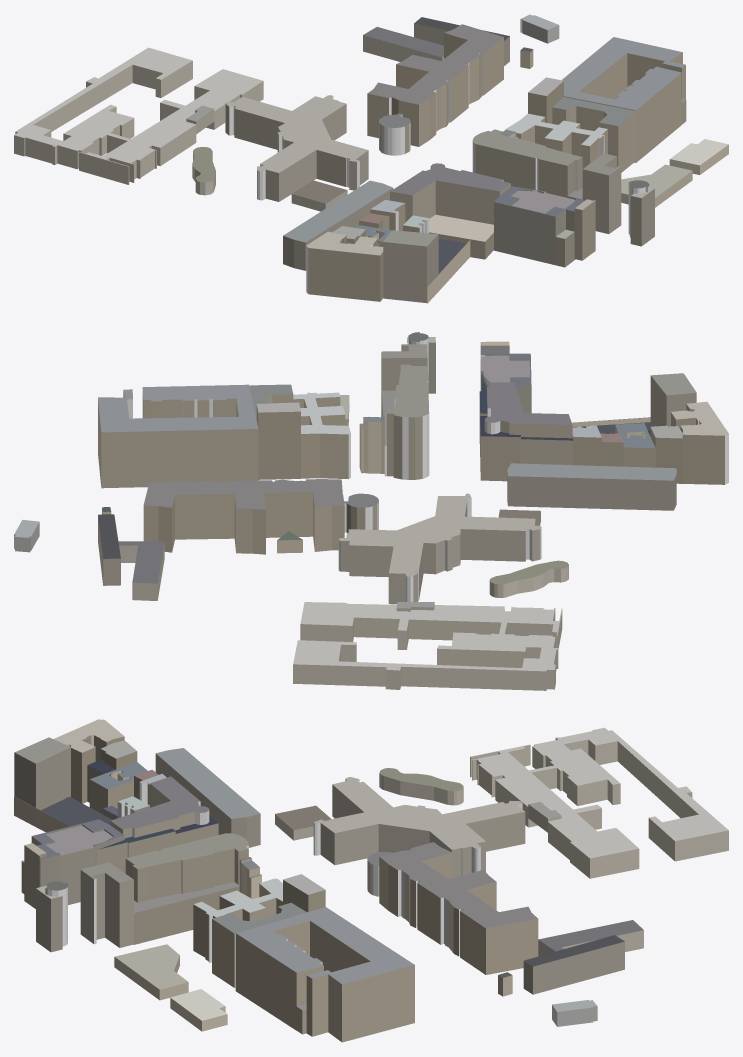
3 views of the same model, one above another, from view 1: azimuth 30°, elevation 25°; view 2: azimuth 150°, elevation 25°; view 3: azimuth 270°, elevation 25° (orthographic). The views are drawn at different scales.
Visible parts, largest first — view 1: tuile; view 2: tuile; view 3: tuile.
Boxes of the visible parts, left/top/right/bottom form: tuile: left=14, top=14, right=728, bottom=303; tuile: left=14, top=332, right=728, bottom=690; tuile: left=14, top=719, right=728, bottom=1042.
Size of the model in its own units: 308 by 37.27 by 314.
